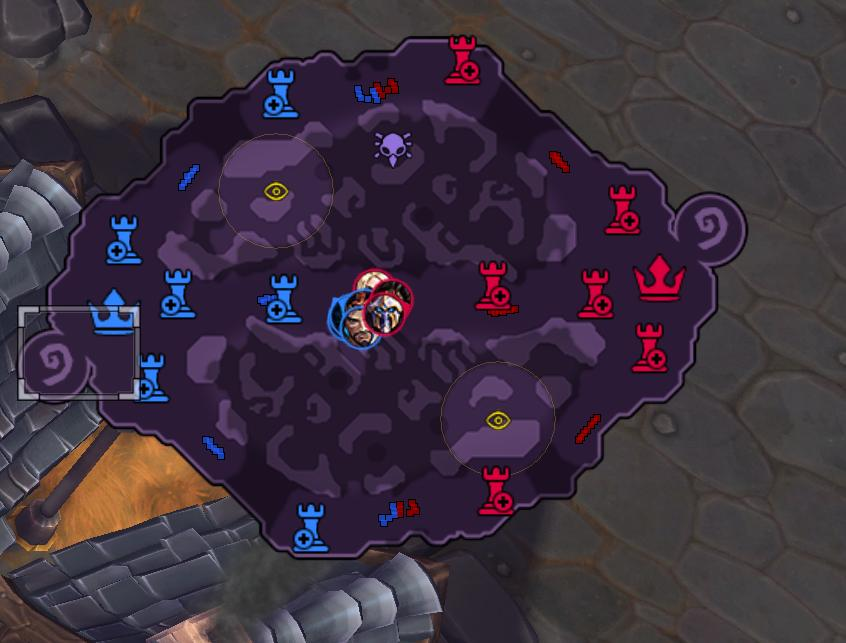blue nexus: (86, 287, 139, 334)
blue player: (331, 291, 379, 350)
blue tower: (152, 262, 214, 325), (259, 272, 302, 324), (261, 66, 299, 120), (105, 213, 143, 265), (292, 501, 329, 552), (135, 351, 169, 402)
red nexus: (632, 252, 686, 300)
red player: (363, 289, 406, 336)
red tower: (434, 26, 495, 91), (472, 456, 522, 522), (574, 263, 621, 328), (472, 252, 519, 315), (602, 182, 650, 238), (630, 322, 669, 373)
